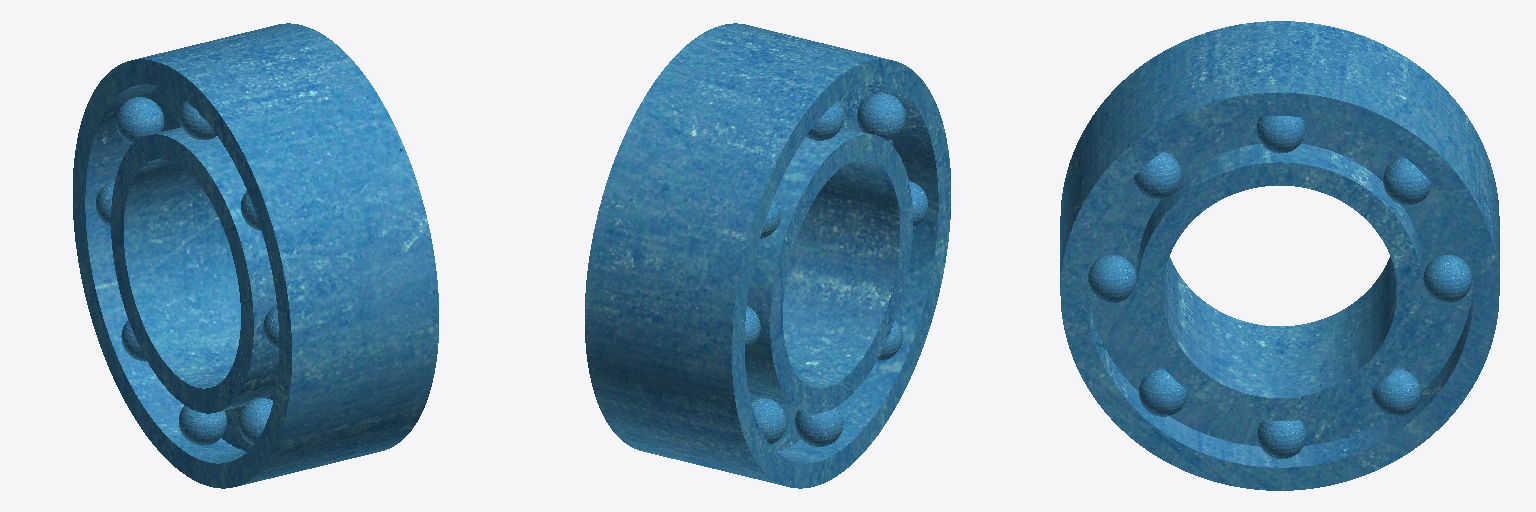
The picture shows the model from 3 angles: view 1: azimuth 30°, elevation 25°; view 2: azimuth 150°, elevation 25°; view 3: azimuth 270°, elevation 25°; orthographic projection.
Parts seen in each view (by area): view 1: Cylinder.036; view 2: Cylinder.036; view 3: Cylinder.036.
Boxes of the visible parts, <box> form: Cylinder.036: <box>73,23,438,488</box>; Cylinder.036: <box>585,23,950,488</box>; Cylinder.036: <box>1060,21,1499,490</box>.
Bounding box in the file's own units: 0.012 × 0.0309 × 0.0309.
Materials: 1 (1 with a texture image).